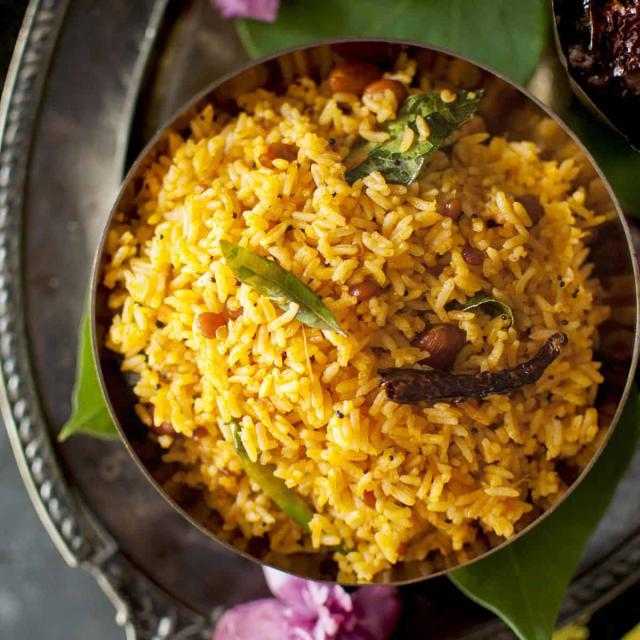puliyogare: (87, 29, 636, 584)
